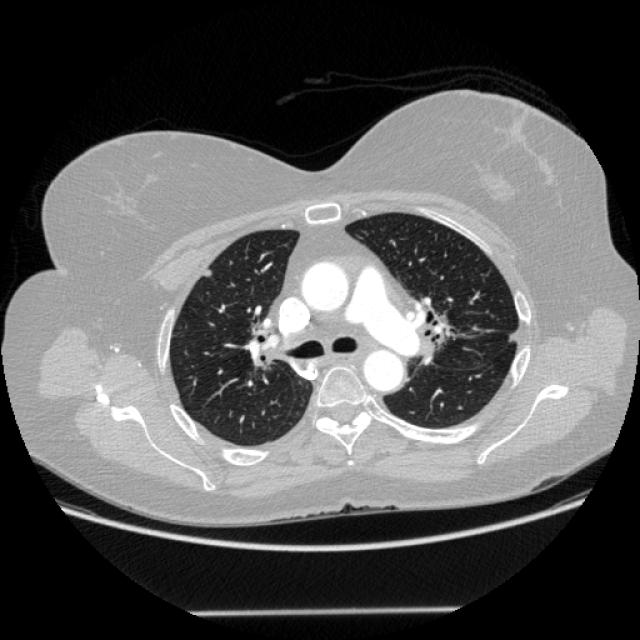nodule: (197, 264, 215, 281)
